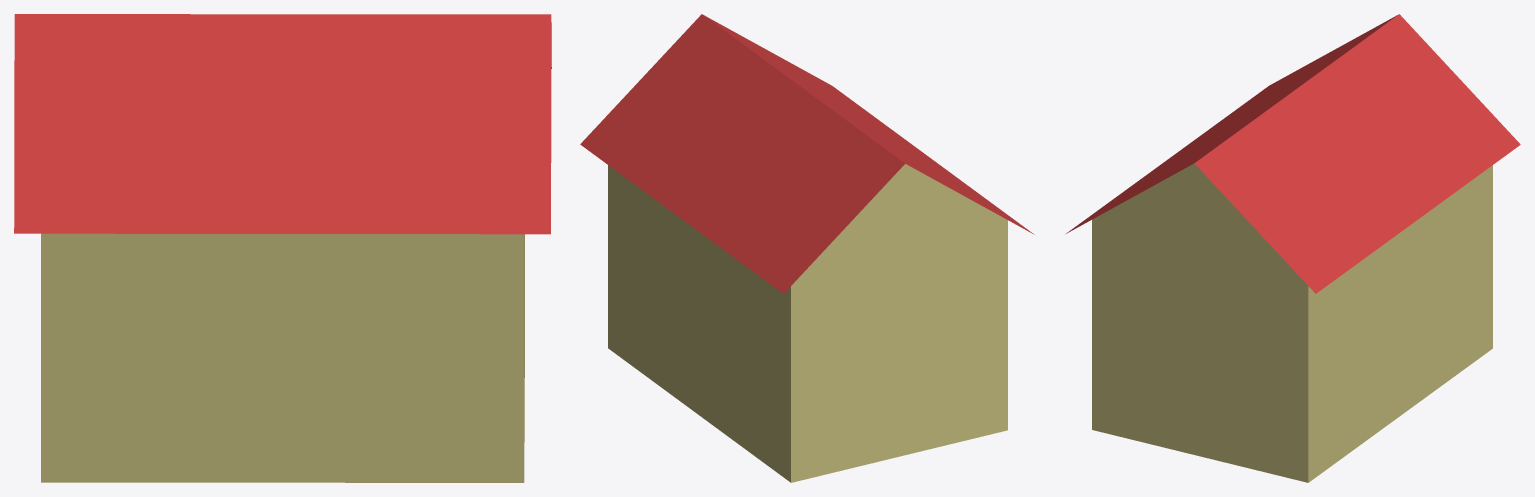
3 views of the same model, side by side, from view 1: azimuth 30°, elevation 25°; view 2: azimuth 150°, elevation 25°; view 3: azimuth 270°, elevation 25° (orthographic). The views are drawn at different scales.
Bounding box in the file's own units: 18.36 × 16.79 × 12.23.
